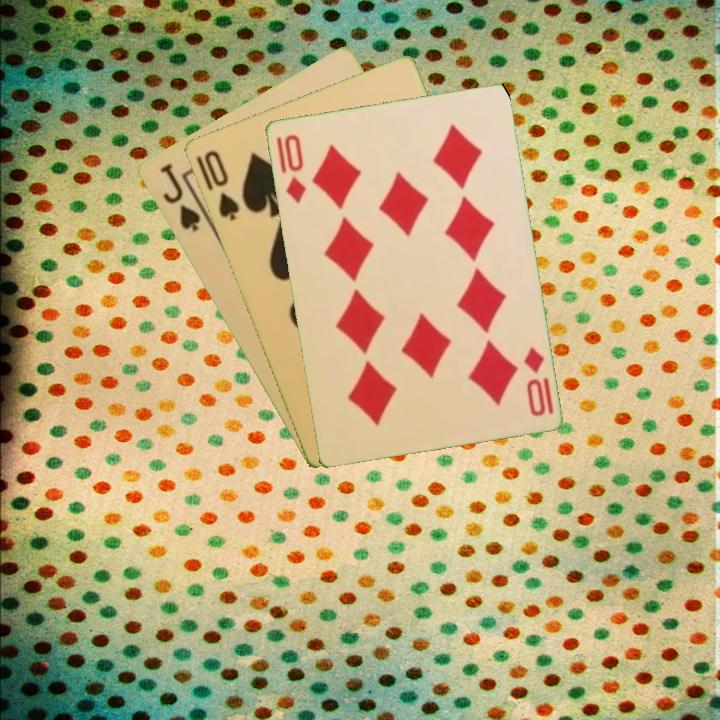10d: (280, 130, 308, 206), (520, 343, 548, 419)
10s: (200, 146, 242, 224)
Js: (156, 160, 203, 235)
